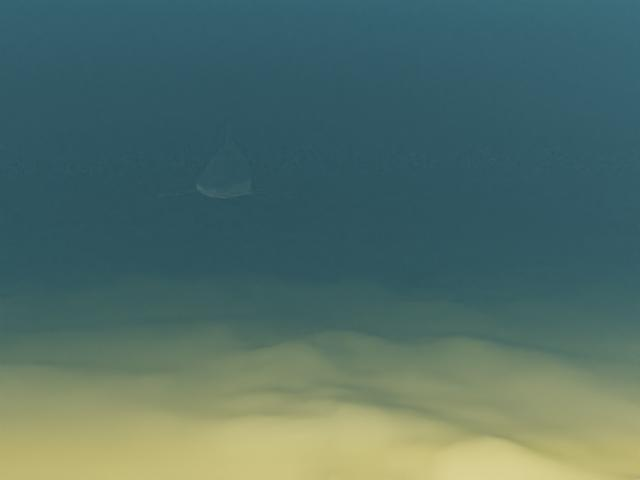Carribean Shark.001: (154, 118, 304, 198)
